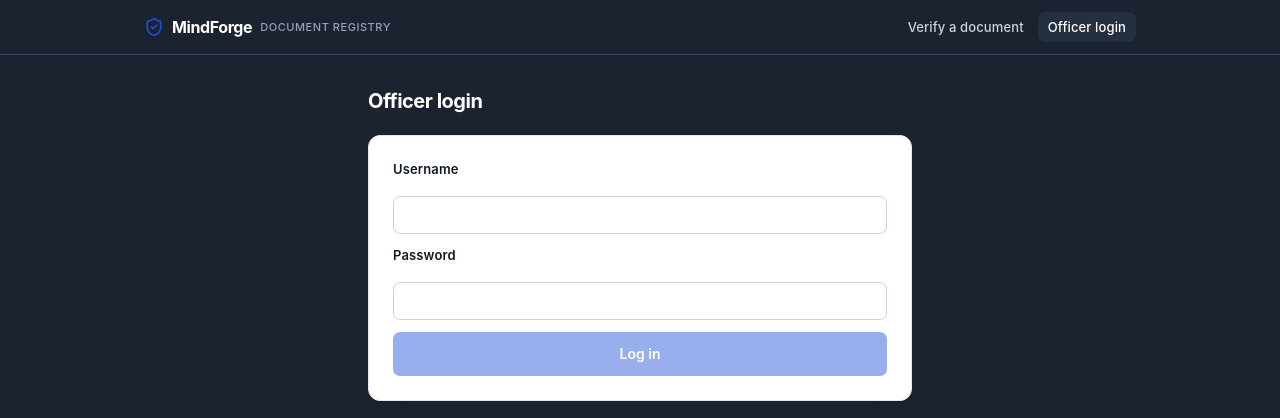
Test case: dashboard › says when there is nothing yet
In the field labelled "Username": point(640, 215) [393,196,887,234], type "officer"
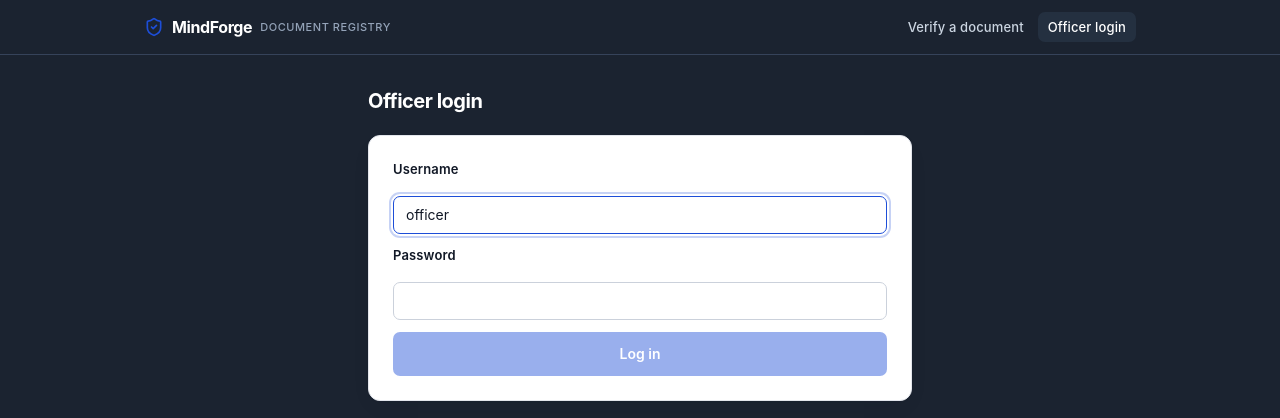
In the password field labelled "Password": point(640, 301) [393,282,887,320], type "correct horse"
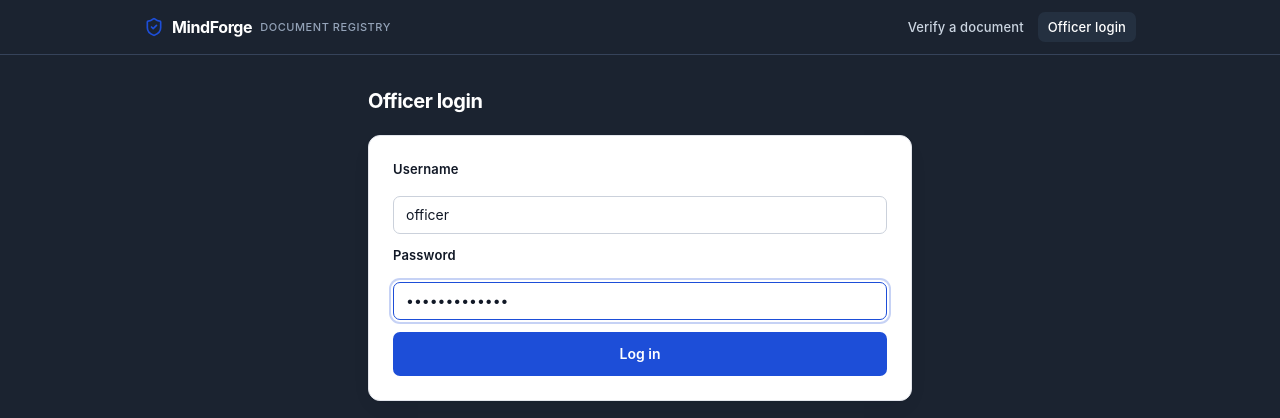
Click the button "Log in": point(640, 354) [393,332,887,376]
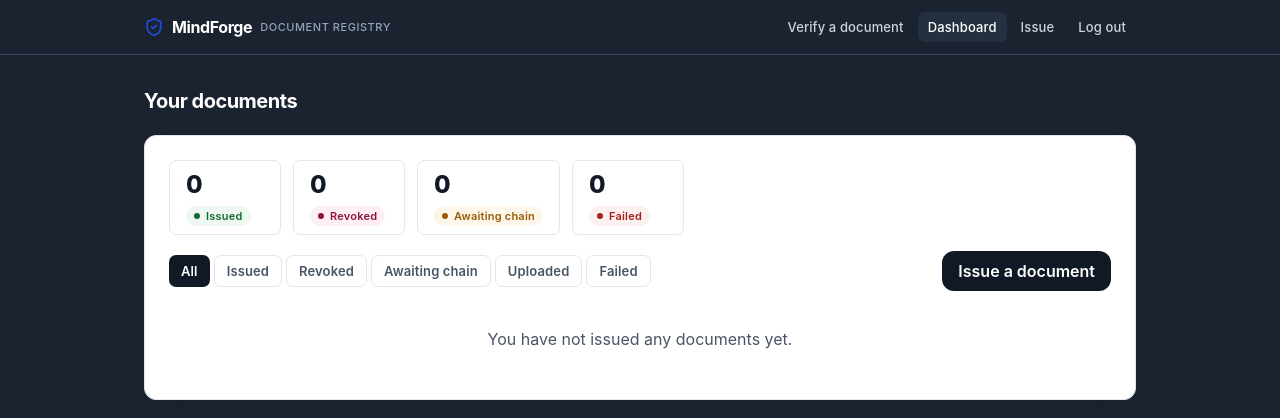
Check: the text "You have not issued any documents yet." is shown, box [488,329,792,349]
Check: the text with test id "count-ISSUED" reads "0", box [186,170,203,199]
